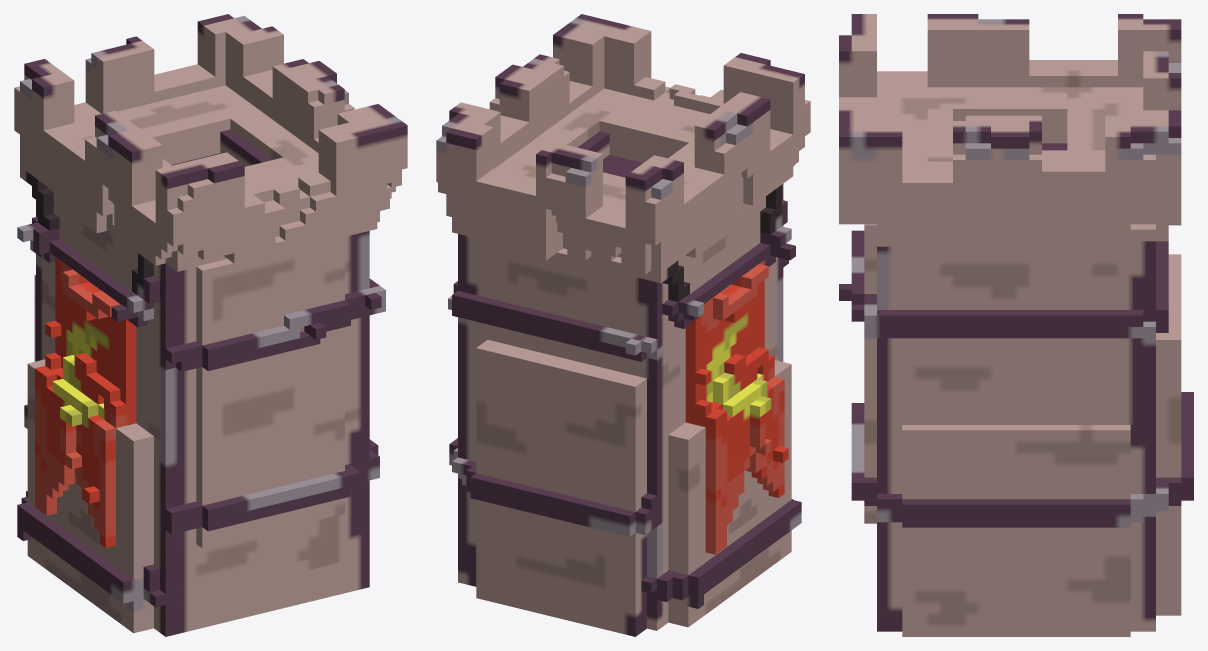
File: castle.fbx
The picture shows the model from 3 angles, left to right: view 1: azimuth 30°, elevation 25°; view 2: azimuth 150°, elevation 25°; view 3: azimuth 270°, elevation 25°; orthographic projection. The views are drawn at different scales.
Parts seen in each view (by area): view 1: Matrix.002; view 2: Matrix.002; view 3: Matrix.002.
Boxes of the visible parts, bbox=[...] form: Matrix.002: bbox=[14, 14, 407, 636]; Matrix.002: bbox=[436, 14, 810, 636]; Matrix.002: bbox=[839, 14, 1193, 636].
Size of the model in its own units: 26 by 44 by 28.
Materials: 1 (1 with a texture image).
